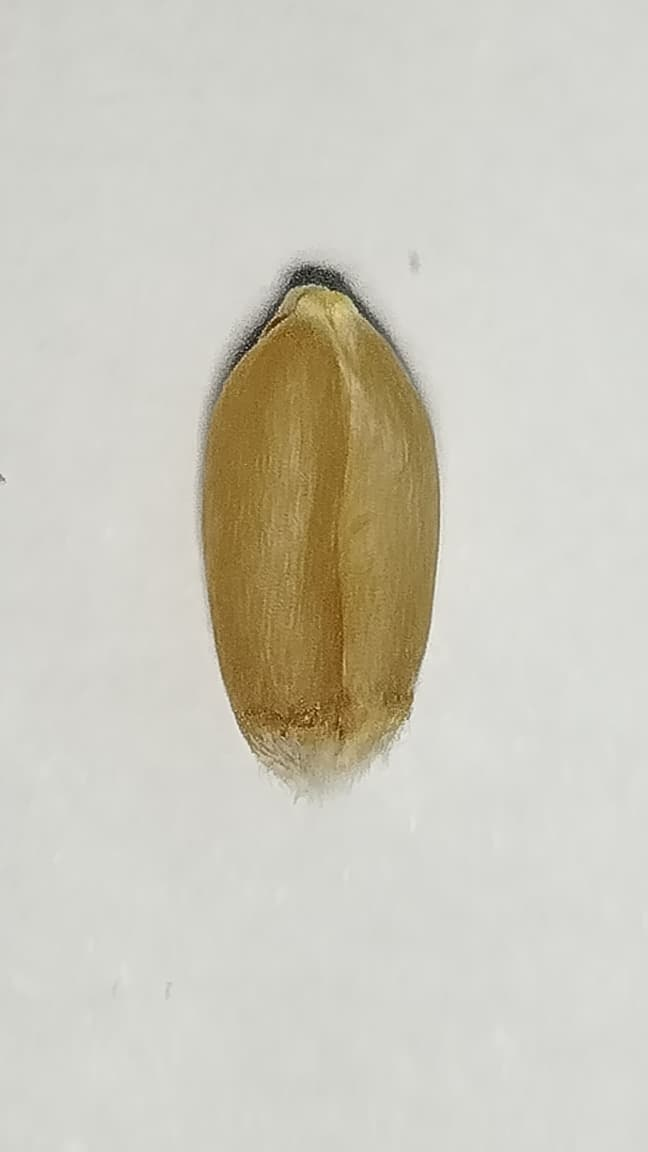healthy: (197, 282, 440, 793)
